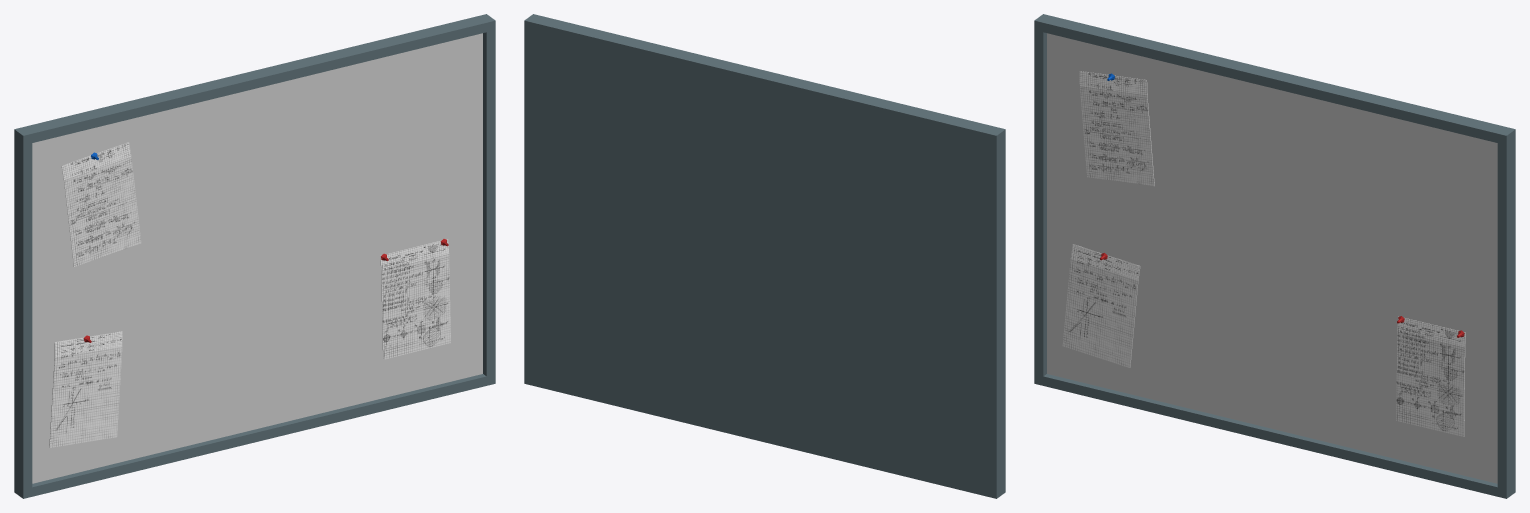
Rendered from BoardV2_T.fbx.
3 views of the same model, side by side, from view 1: azimuth 30°, elevation 25°; view 2: azimuth 150°, elevation 25°; view 3: azimuth 330°, elevation 25° (orthographic).
Parts seen in each view (by area): view 1: BoardV2_T; view 2: BoardV2_T; view 3: BoardV2_T.
Boxes of the visible parts, x1,y1,x2,y2 form: BoardV2_T: (14,14,495,498); BoardV2_T: (524,14,1005,498); BoardV2_T: (1034,14,1515,498).
Bounding box in the file's own units: 118 × 86.44 × 4.03.
